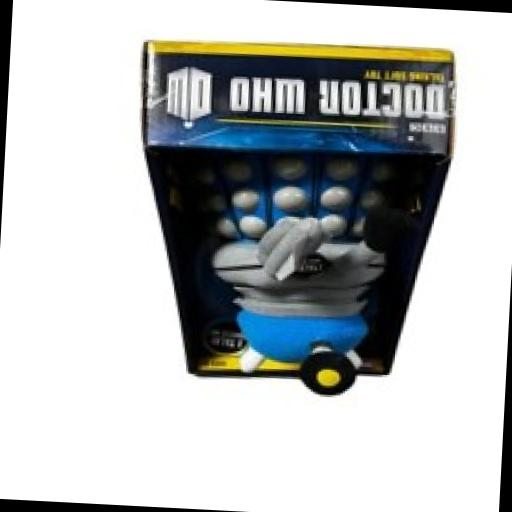dalek: (203, 167, 390, 399)
